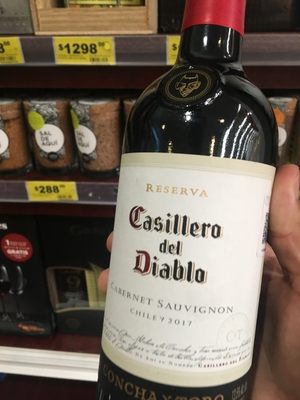casillero del diablo cabernet sauvignon: (96, 22, 279, 400)
